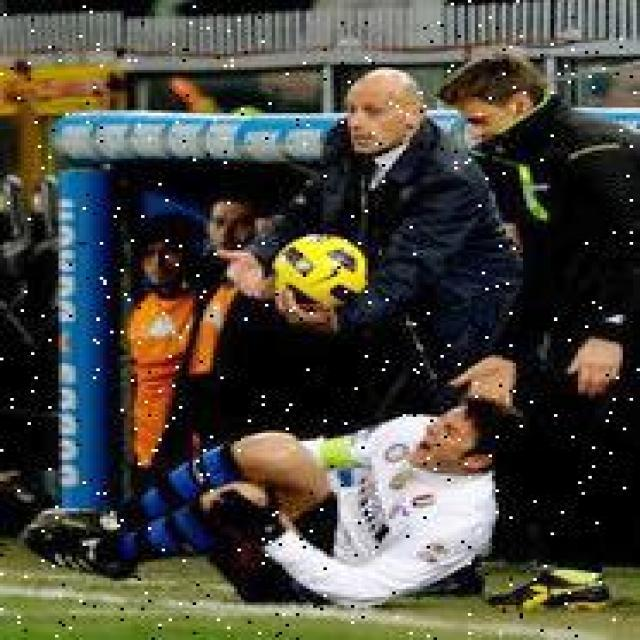fall: (35, 392, 522, 592)
